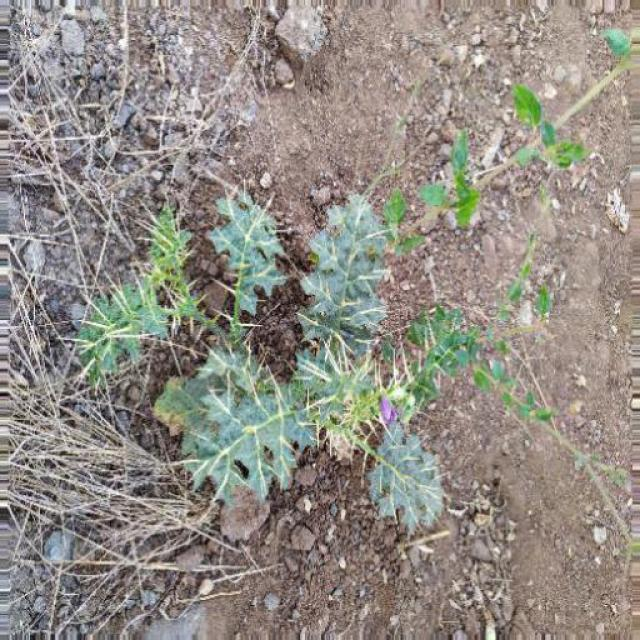weed: (64, 115, 564, 546)
